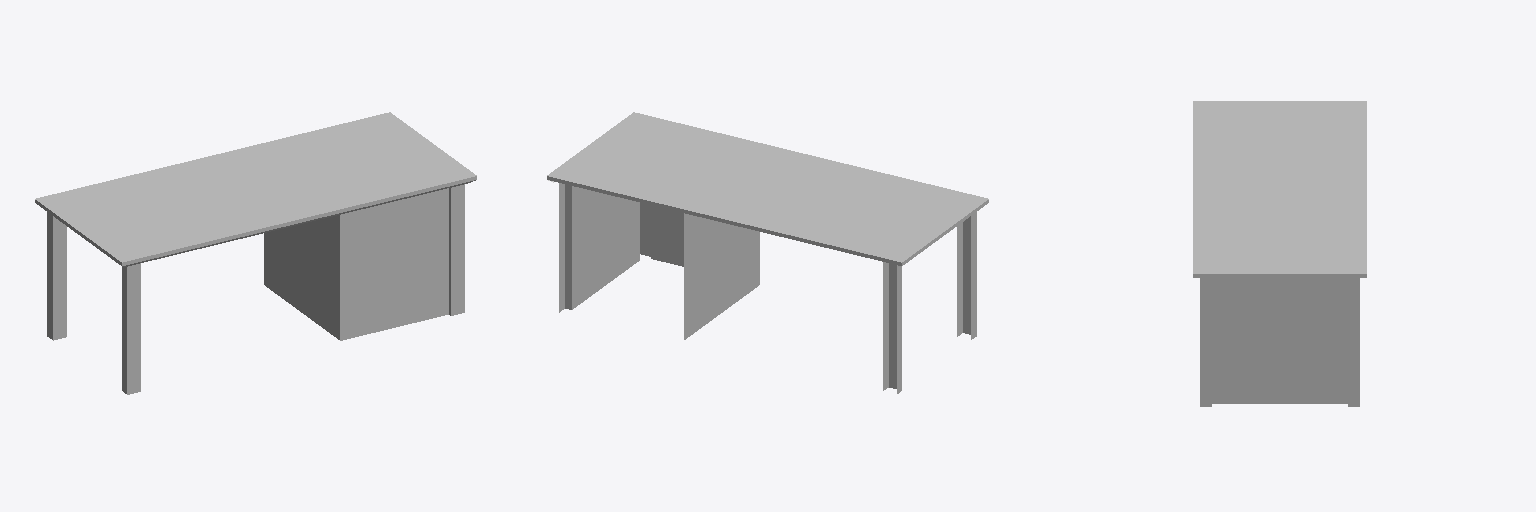
File: desk2.obj
3 renders of one model, left to right at view 1: azimuth 30°, elevation 25°; view 2: azimuth 150°, elevation 25°; view 3: azimuth 270°, elevation 25°, orthographic.
Visible parts, largest first — view 1: desk3:group desk3:pasted__pPlane1 desk3:polySurface2 desk3:polyS, desk3:group desk3:pasted__pPlane1 desk3:polySurface3 desk3:polyS; view 2: desk3:group desk3:pasted__pPlane1 desk3:polySurface2 desk3:polyS, desk3:group desk3:pasted__pPlane1 desk3:polySurface3 desk3:polyS; view 3: desk3:group desk3:pasted__pPlane1 desk3:polySurface2 desk3:polyS, desk3:group desk3:pasted__pPlane1 desk3:polySurface3 desk3:polyS.
Part boxes in pixels (bbox=[...]): desk3:group desk3:pasted__pPlane1 desk3:polySurface2 desk3:polyS: bbox=[35, 112, 476, 394]; desk3:group desk3:pasted__pPlane1 desk3:polySurface3 desk3:polyS: bbox=[35, 176, 476, 315]; desk3:group desk3:pasted__pPlane1 desk3:polySurface2 desk3:polyS: bbox=[547, 112, 988, 393]; desk3:group desk3:pasted__pPlane1 desk3:polySurface3 desk3:polyS: bbox=[547, 176, 988, 312]; desk3:group desk3:pasted__pPlane1 desk3:polySurface2 desk3:polyS: bbox=[1193, 101, 1366, 273]; desk3:group desk3:pasted__pPlane1 desk3:polySurface3 desk3:polyS: bbox=[1193, 274, 1366, 406].
Size of the model in its own units: 59.17 by 21.81 by 25.15.